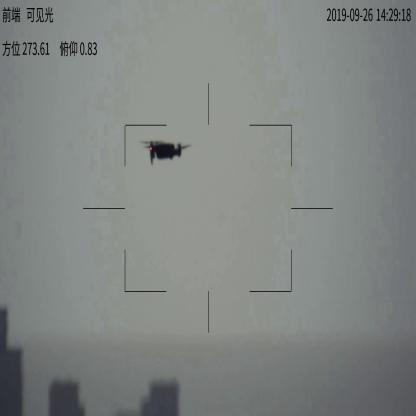uav: (138, 139, 191, 170)
